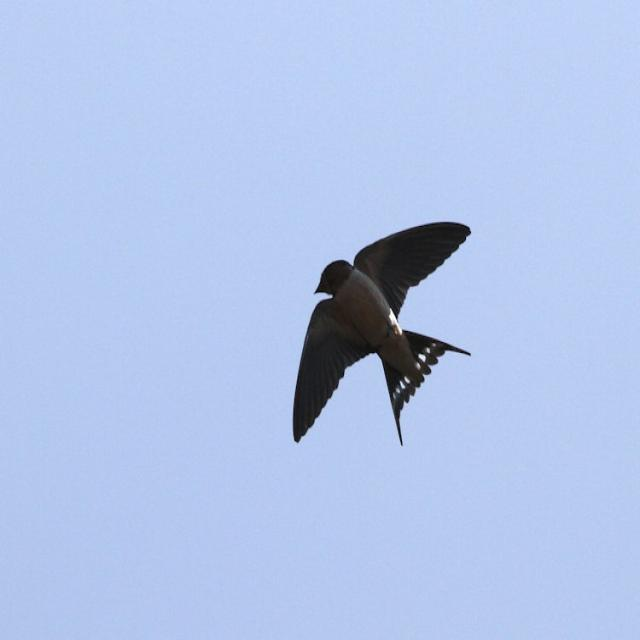bird: (288, 215, 484, 470)
